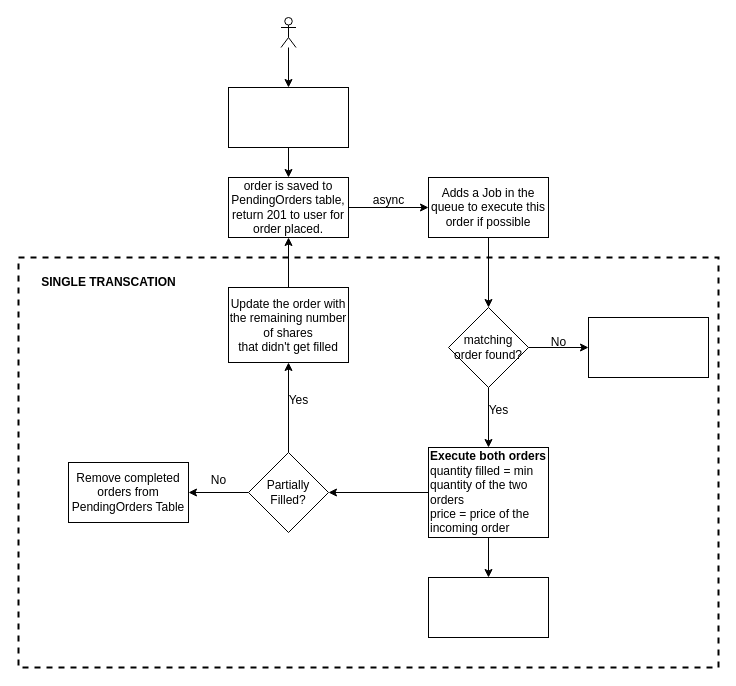
This 736x686 diagram has some shape labels left out. Here are the shapes that lost their labels. From the top down, the box of each, then its label:
(228, 86, 348, 148): Places an order
(588, 316, 708, 378): Keep the order in PendingOrders table for possible future execution
(428, 576, 548, 638): Add completed orders to the Orders table with the transaction details
